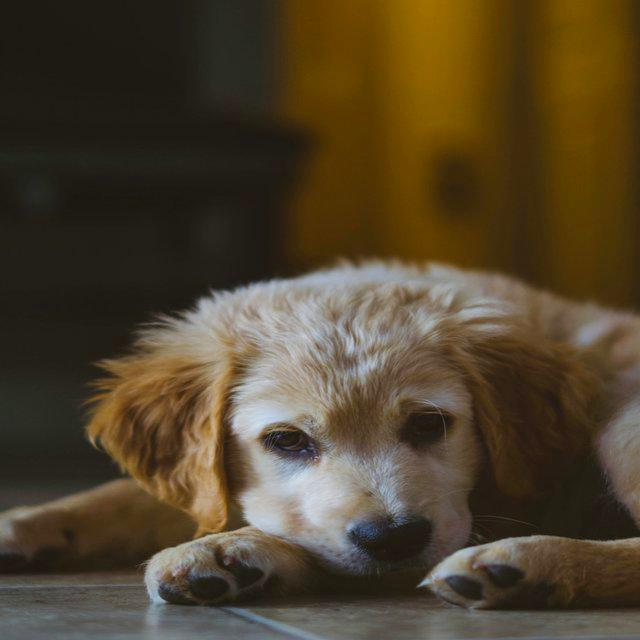retriever: (1, 255, 640, 611)
